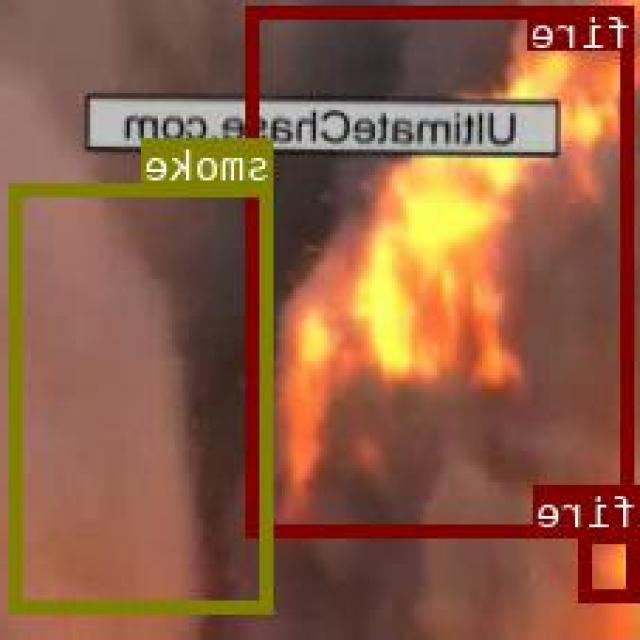fire: (250, 4, 637, 534), (584, 527, 640, 600)
smoke: (12, 182, 274, 611)
